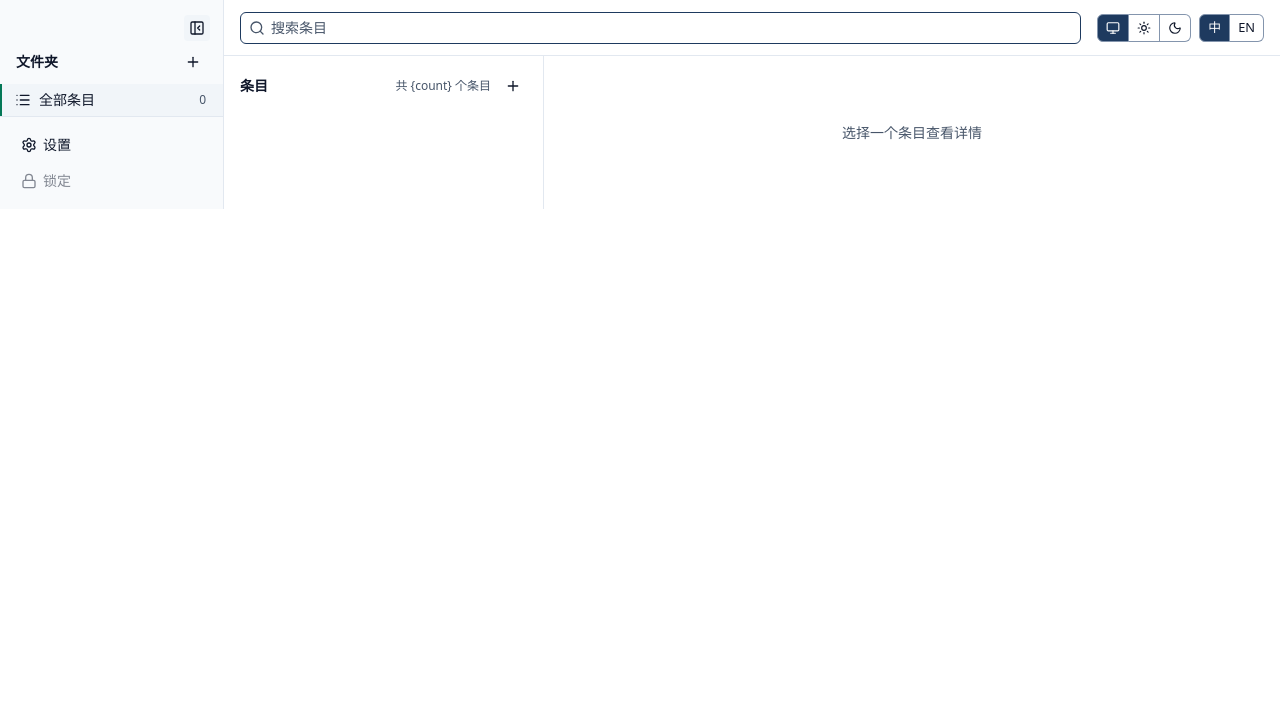
Scenario: 设置入口: 顶栏保留, 与设置里的控件读写同一份偏好 › 在设置里点选深色后, 关闭对话框, 顶栏的深色按钮是选中项
This screenshot has width=1280, height=720.
What coordinates should you click on to do the following:
click the button "设置"
I would click on:
 (112, 145)
Its box is [12, 129, 211, 161].
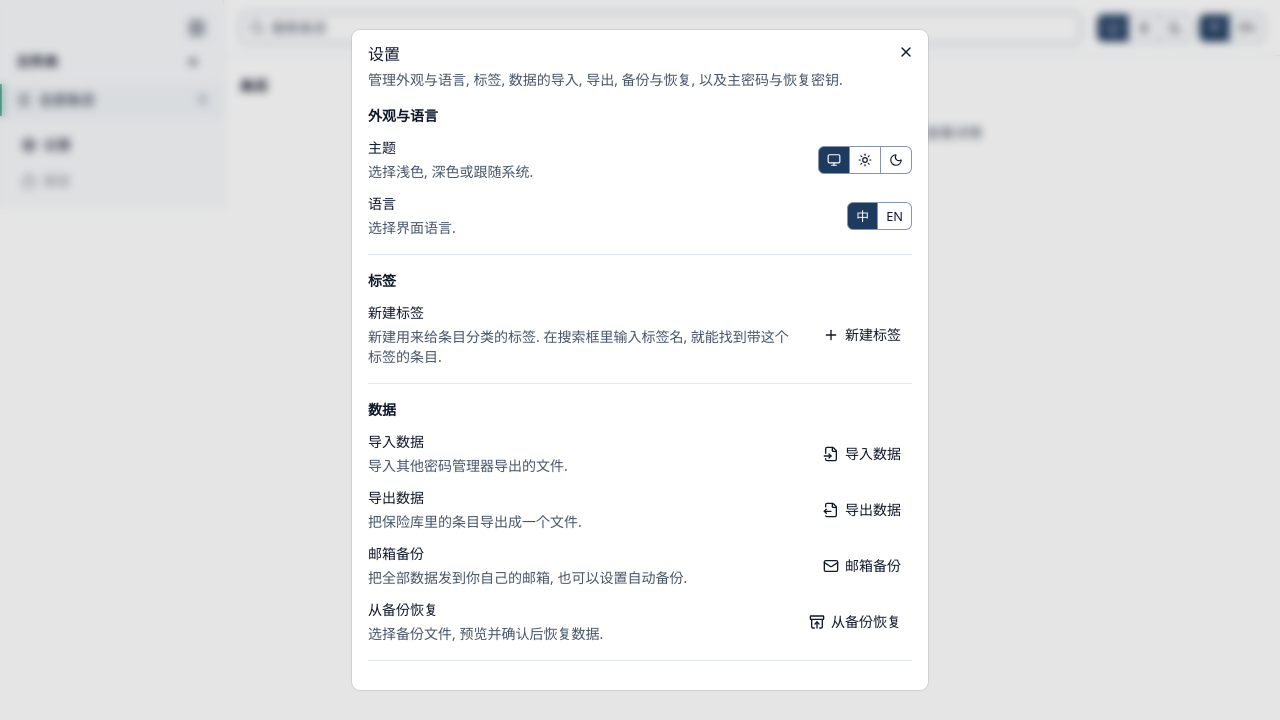
Expected: the dialog "设置" is shown, [352, 30, 928, 690]
What coordinates should you click on to do the following:
click the button named "深色"
I would click on:
 (896, 160)
Its box is [881, 146, 912, 174].
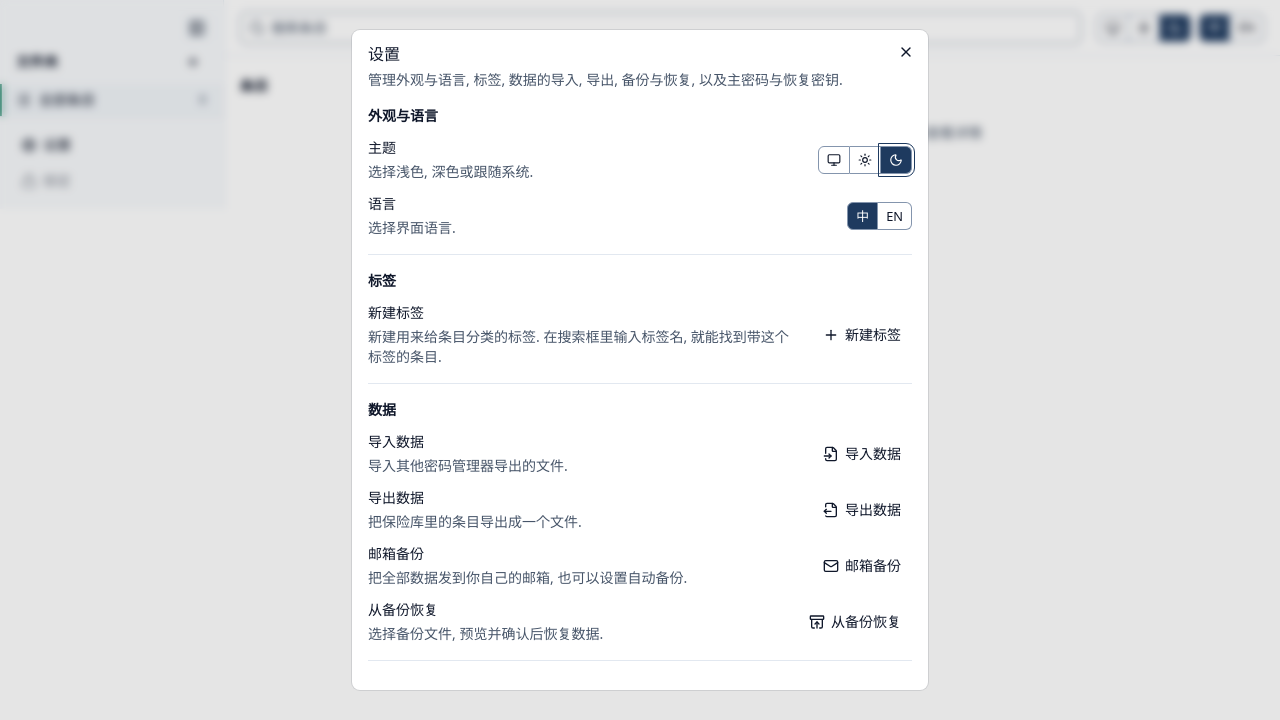
What coordinates should you click on to do the following:
click the button named "关闭"
I would click on:
 (906, 52)
Its box is [892, 38, 920, 66].
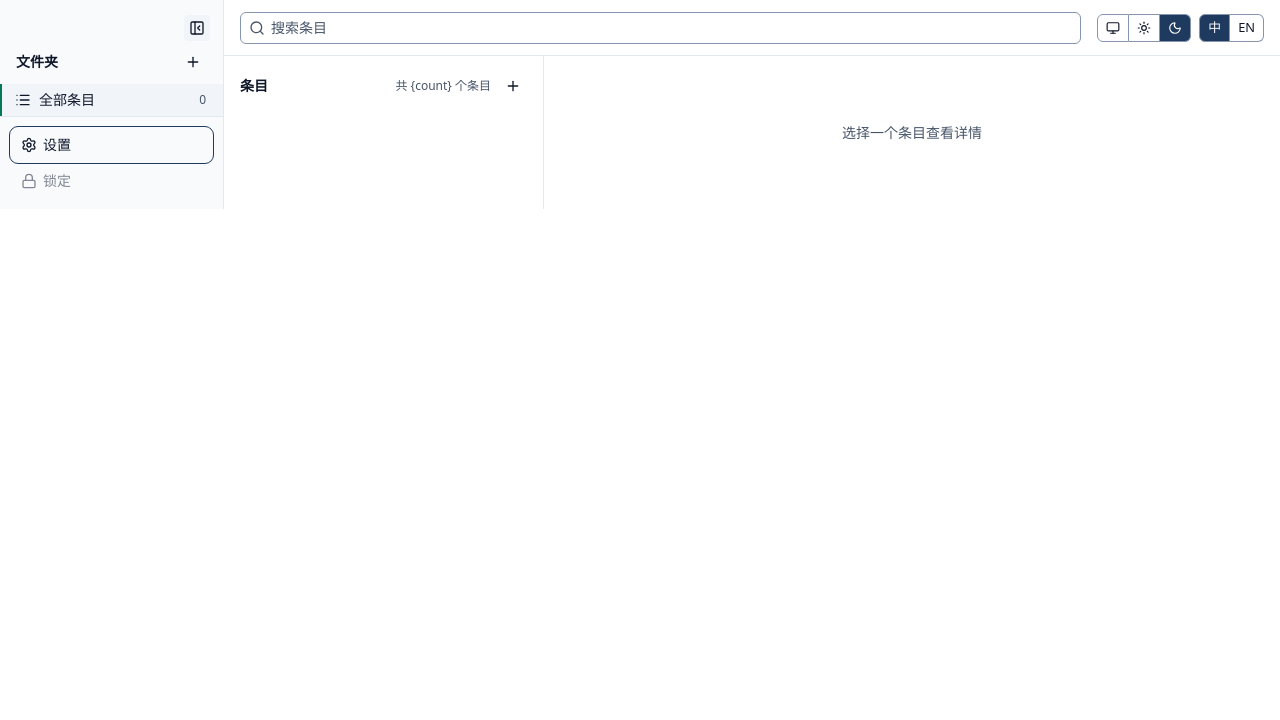
Expected: the dialog is gone
